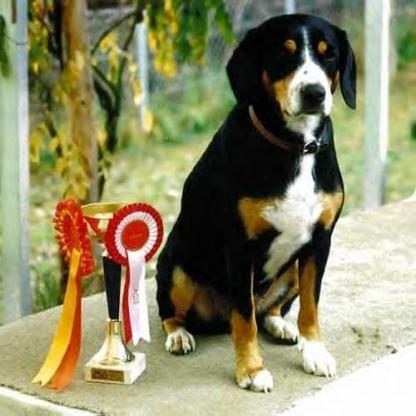EntleBucher: (153, 12, 356, 395)
